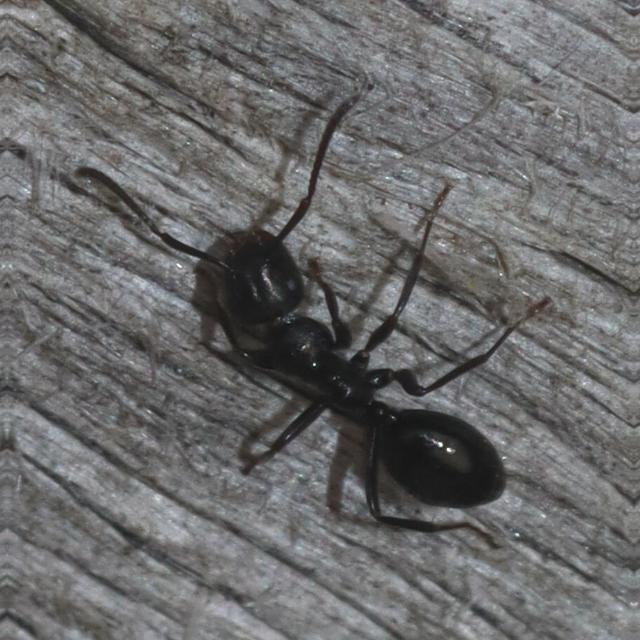Colobopsis: (158, 178, 536, 568)
